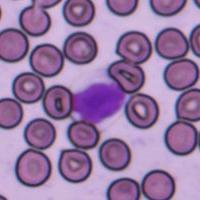M: (72, 80, 125, 125)
